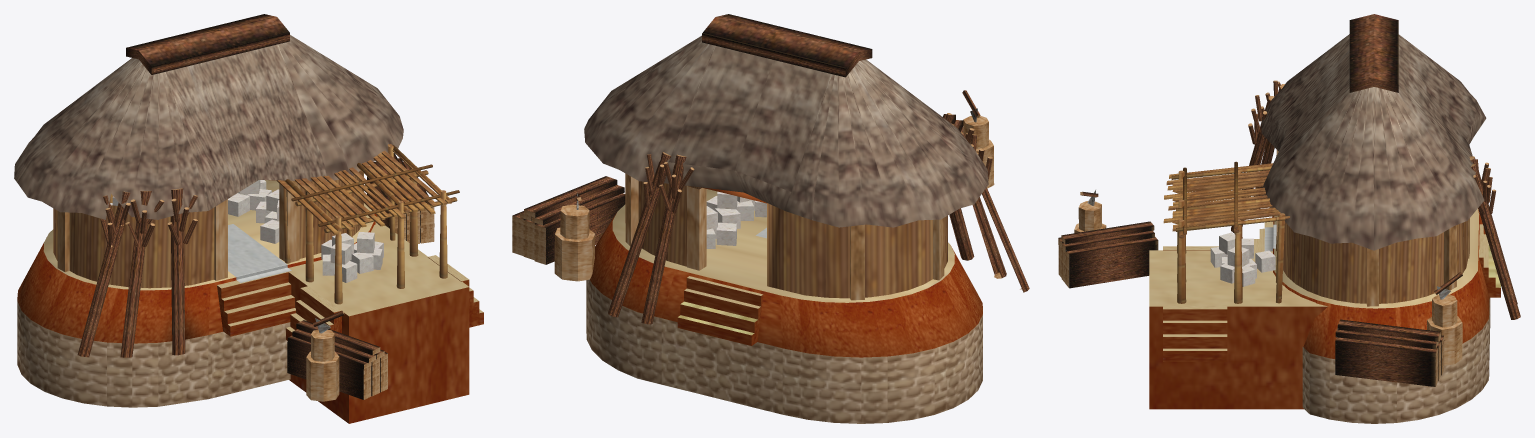
Rendered from storehouse_1_new.dae.
3 renders of one model, left to right at view 1: azimuth 30°, elevation 25°; view 2: azimuth 150°, elevation 25°; view 3: azimuth 270°, elevation 25°, orthographic. The views are drawn at different scales.
Visible parts, largest first — view 1: storehouse_new_01; view 2: storehouse_new_01; view 3: storehouse_new_01.
Part boxes in pixels (x1=…): storehouse_new_01: x1=14, y1=14, x2=483, y2=423; storehouse_new_01: x1=512, y1=14, x2=1029, y2=423; storehouse_new_01: x1=1058, y1=14, x2=1520, y2=423.
Size of the model in its own units: 16.24 by 16.46 by 11.62.
